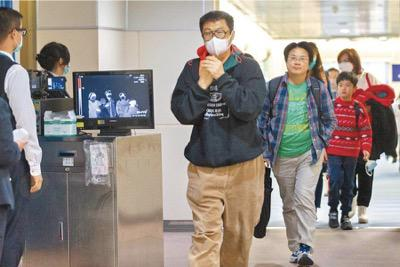with_mask: (201, 26, 230, 57), (338, 57, 355, 76)
without_mask: (284, 53, 311, 76), (336, 81, 353, 99)
